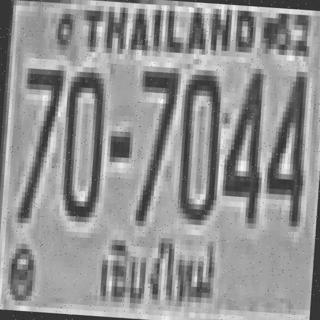N00: (174, 68, 222, 220), (59, 66, 105, 218)
N04: (263, 67, 309, 224), (220, 64, 266, 221)
N07: (130, 66, 179, 222), (15, 63, 61, 220)
P11: (92, 230, 221, 313)
